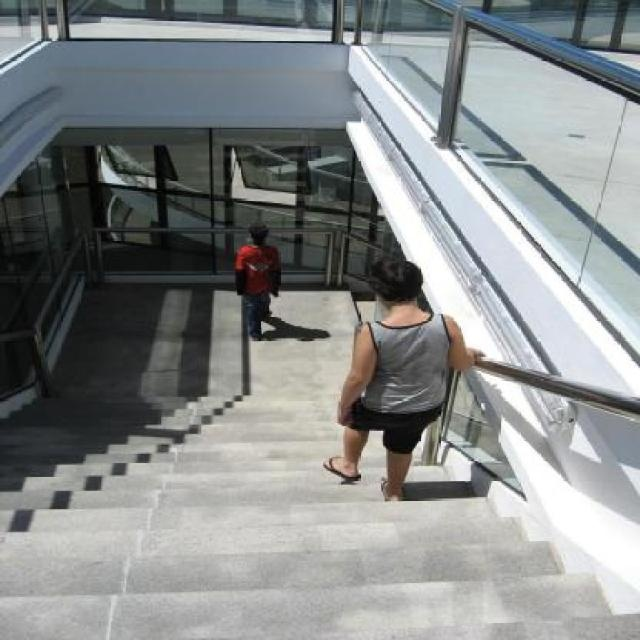stair: (0, 283, 640, 640)
